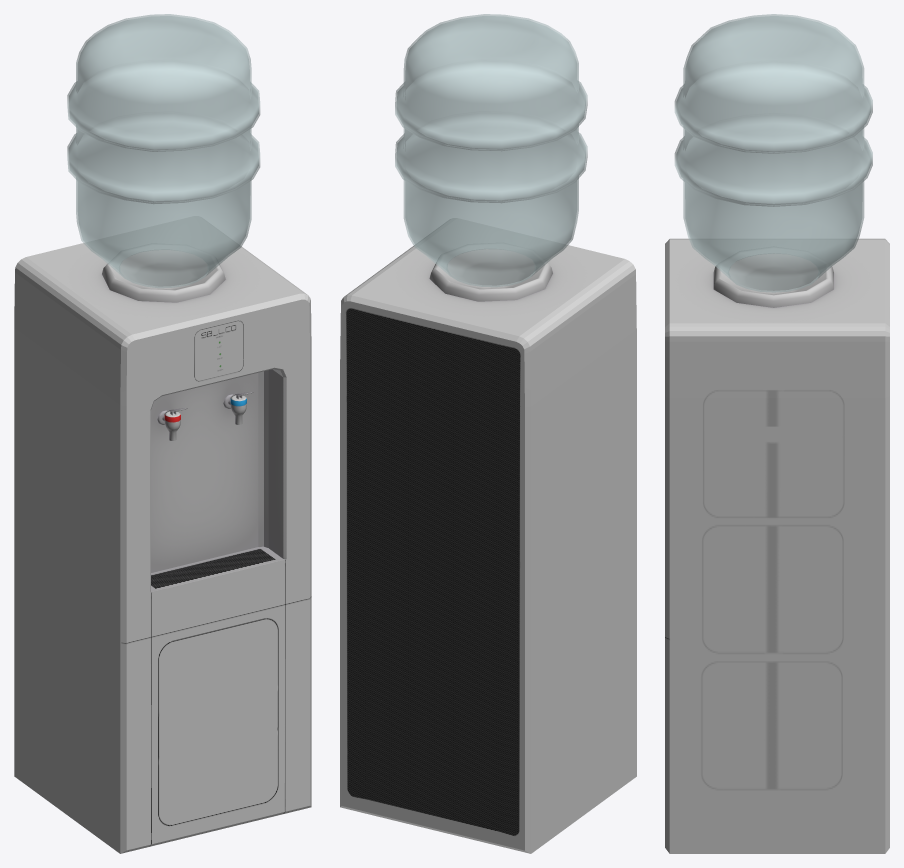
The model's file is Water_Dispenser.fbx.
The picture shows the model from 3 angles, left to right: view 1: azimuth 30°, elevation 25°; view 2: azimuth 150°, elevation 25°; view 3: azimuth 270°, elevation 25°; orthographic projection.
Visible parts, largest first — view 1: WaterDispenser_Machine, Water_Bottle_Dispenser; view 2: WaterDispenser_Machine, Water_Bottle_Dispenser; view 3: WaterDispenser_Machine, Water_Bottle_Dispenser.
Part boxes in pixels (bbox=[...]): WaterDispenser_Machine: bbox=[14, 216, 311, 853]; Water_Bottle_Dispenser: bbox=[67, 14, 260, 288]; WaterDispenser_Machine: bbox=[340, 218, 636, 853]; Water_Bottle_Dispenser: bbox=[395, 14, 587, 287]; WaterDispenser_Machine: bbox=[665, 238, 889, 853]; Water_Bottle_Dispenser: bbox=[674, 14, 872, 292].
Size of the model in its own units: 50.96 by 192 by 50.96.
Materials: 2 (1 with a texture image).
